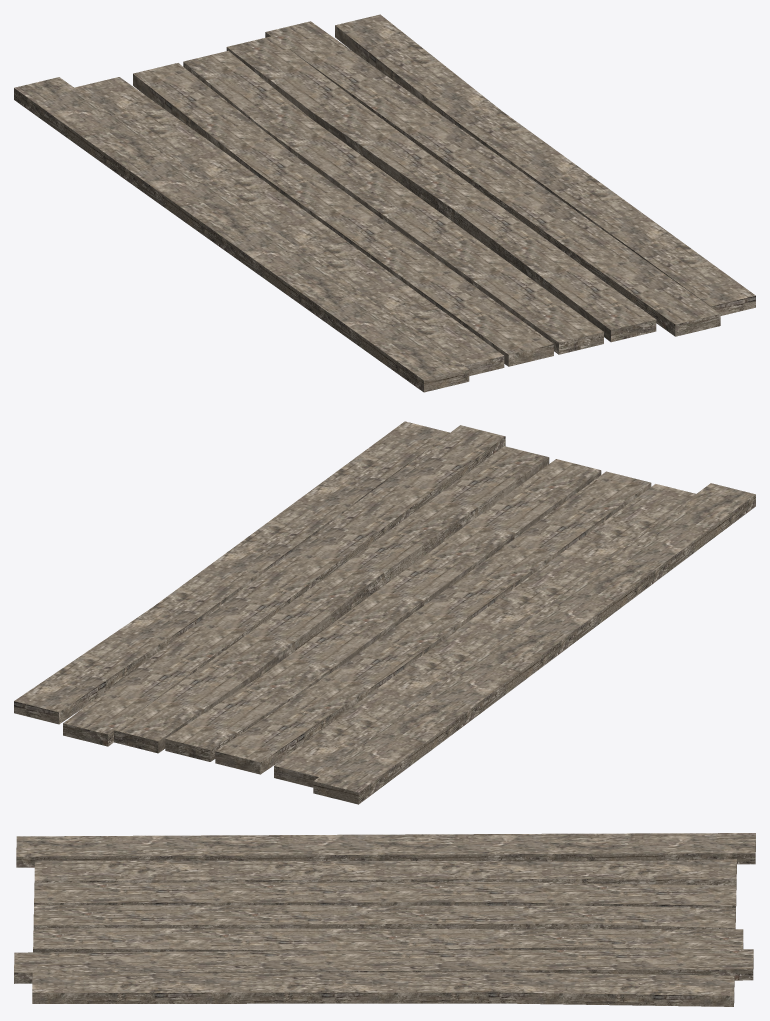
The model's file is WoodPlanks.fbx.
The picture shows the model from 3 angles, top to bottom: view 1: azimuth 30°, elevation 25°; view 2: azimuth 150°, elevation 25°; view 3: azimuth 270°, elevation 25°; orthographic projection. The views are drawn at different scales.
Visible parts, largest first — view 1: WoodPlanks; view 2: WoodPlanks; view 3: WoodPlanks.
Part boxes in pixels (x1,y1,x2,y2): WoodPlanks: (14,14,755,392); WoodPlanks: (14,421,755,804); WoodPlanks: (14,833,755,1006).
Bounding box in the file's own units: 257 × 12.56 × 508.
